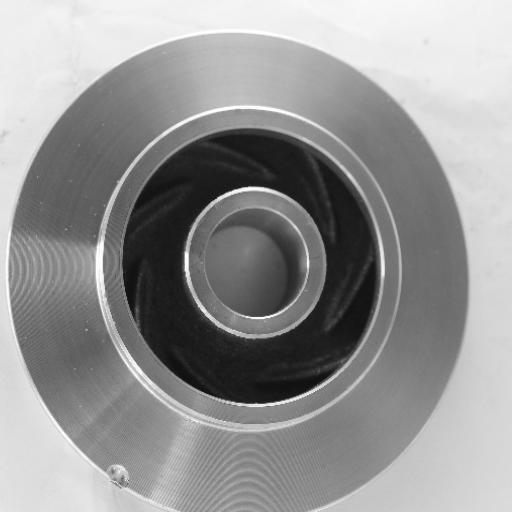crack: (98, 460, 139, 495)
unpolished_casting: (9, 32, 472, 512)
